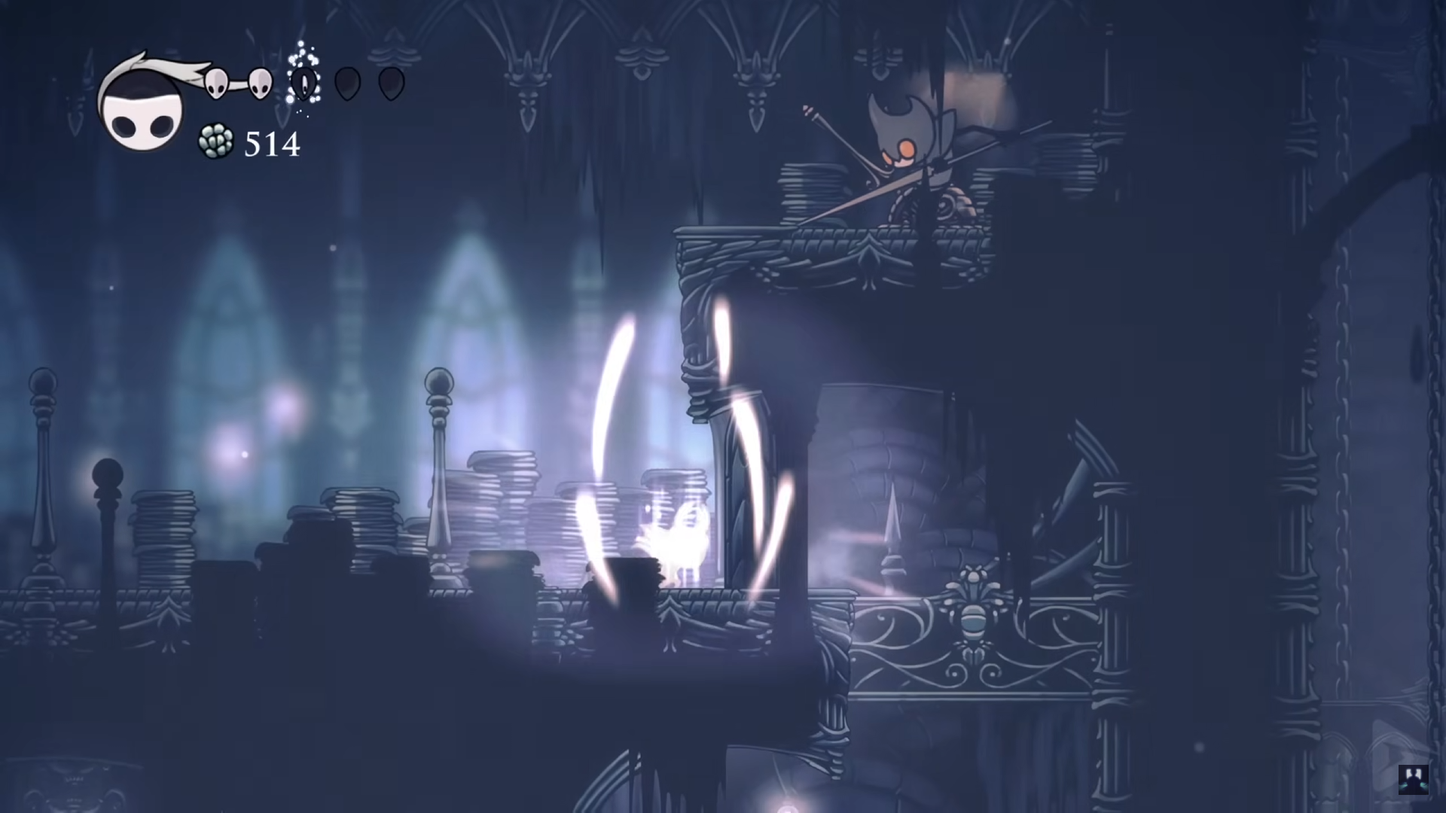HK: (643, 493, 717, 593)
